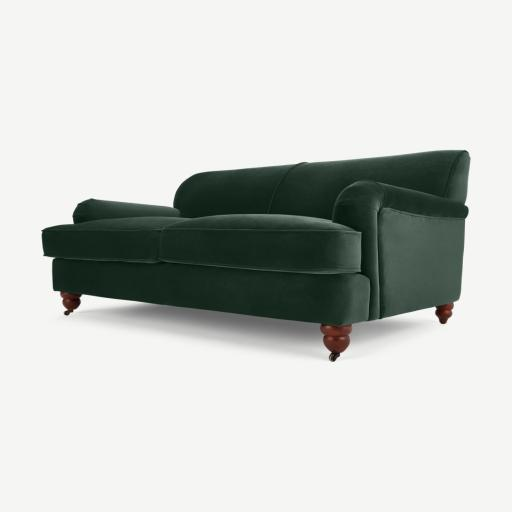back_cushion: (176, 150, 468, 219)
base: (53, 258, 369, 324)
left_arm: (369, 209, 464, 319)
legs: (321, 324, 351, 361), (60, 292, 81, 315), (436, 303, 452, 323)
right_arm: (73, 198, 180, 223)
seat_cushion: (42, 214, 361, 274)
two-seater: (0, 0, 511, 512)
